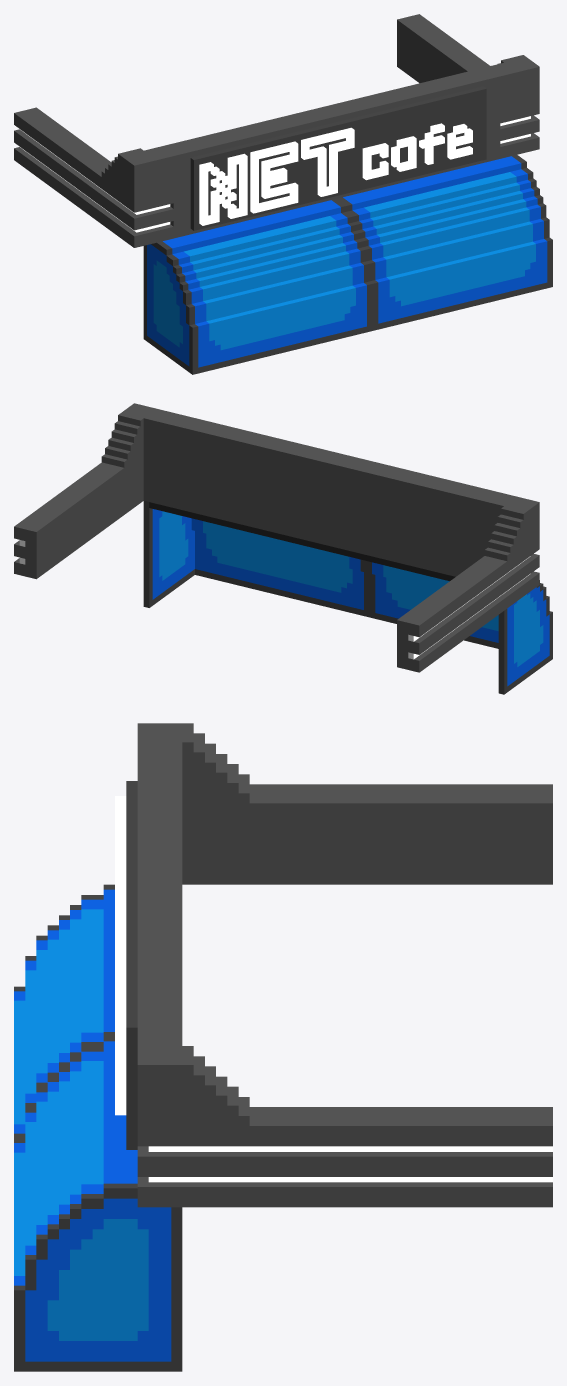
File: netCafe.glb
3 renders of one model, top to bottom at view 1: azimuth 30°, elevation 25°; view 2: azimuth 150°, elevation 25°; view 3: azimuth 270°, elevation 25°, orthographic. The views are drawn at different scales.
Parts seen in each view (by area): view 1: ObjObject; view 2: ObjObject; view 3: ObjObject.
Boxes of the visible parts, x1,y1,x2,y2 form: ObjObject: (14,14,552,374); ObjObject: (14,403,552,694); ObjObject: (14,723,552,1371).
Bounding box in the file's own units: 7.2 × 3.2 × 4.8.
Materials: 2 (1 with a texture image).
